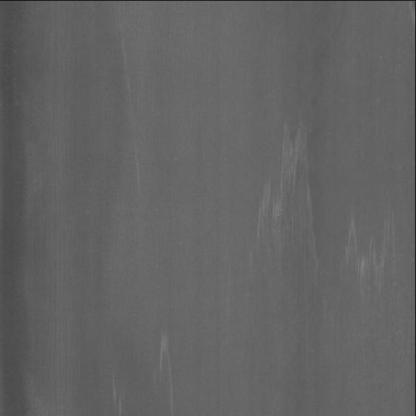silk_spot: (254, 93, 402, 300)
